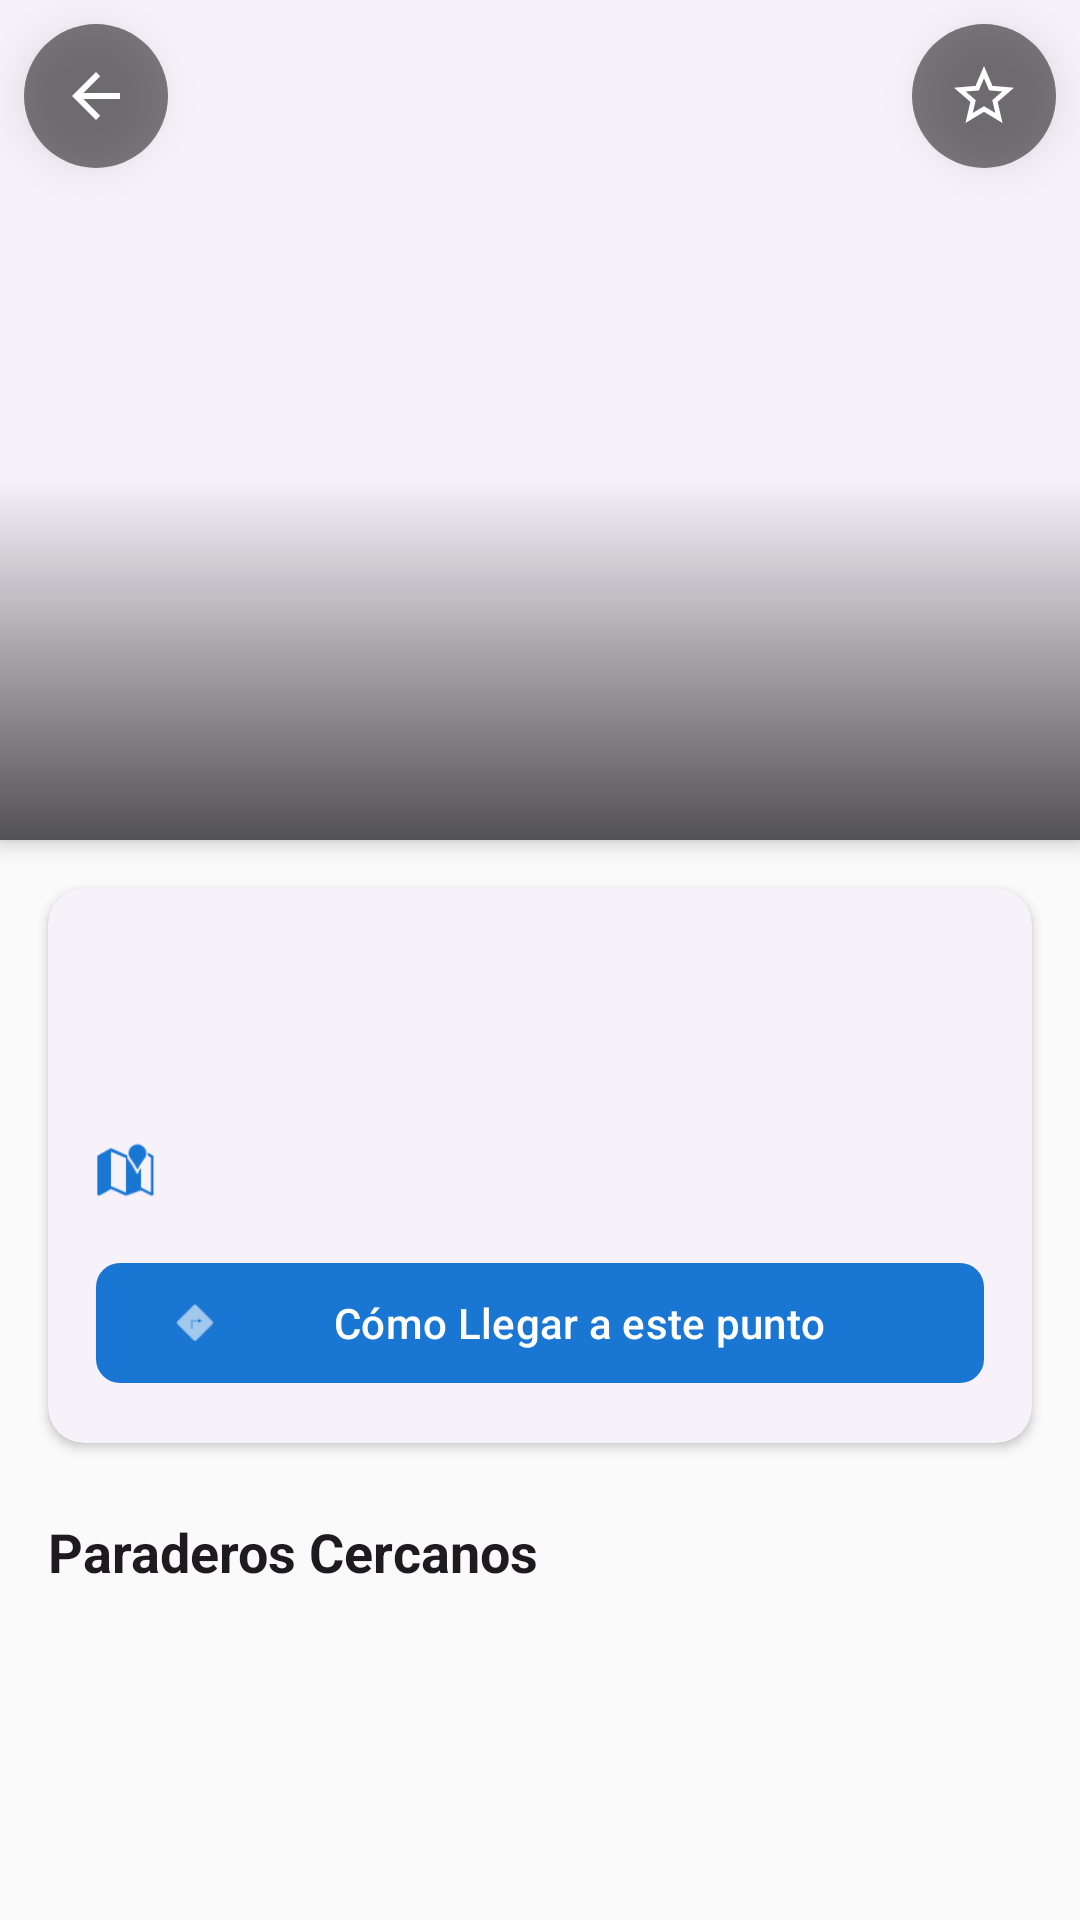

Screen size 1080px×1920px. Icon name, then its center in pixels as (x,y):
Icono de ubicación: (125,1169)
Marcar como favorito: (984,96)
Volver: (96,96)
